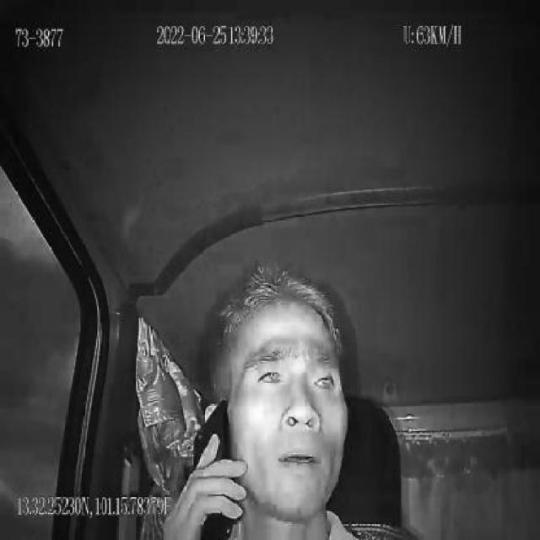phone: (192, 395, 233, 540)
